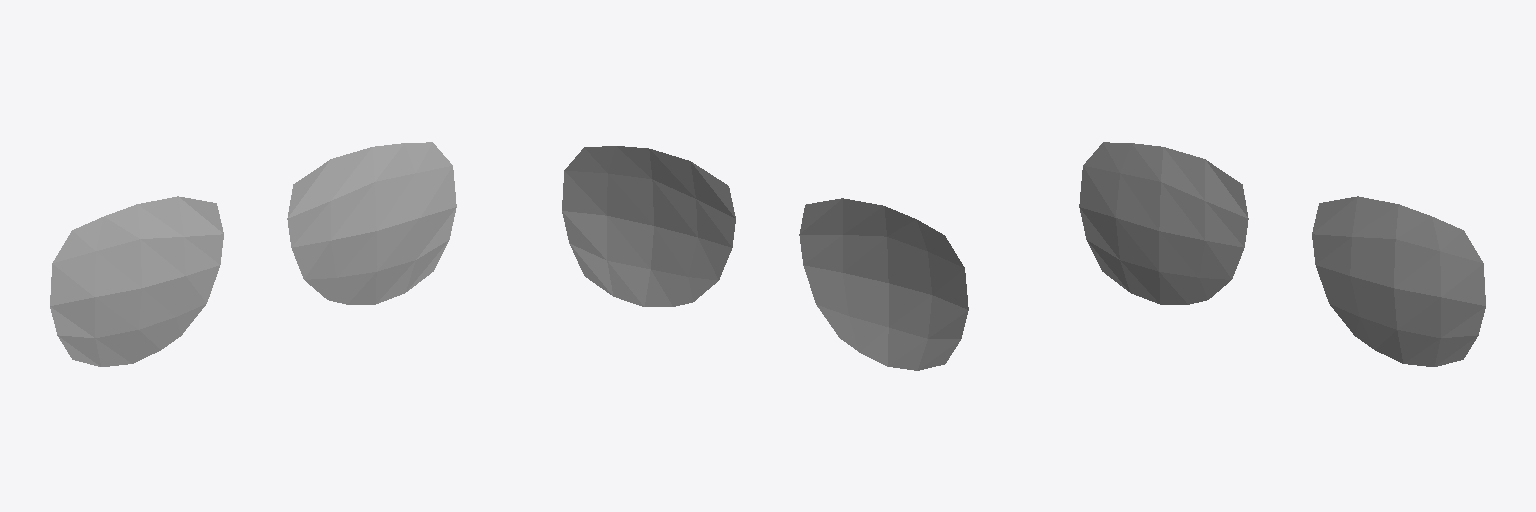
Rendered from glasses_4_lenses.obj.
3 renders of one model, left to right at view 1: azimuth 30°, elevation 25°; view 2: azimuth 150°, elevation 25°; view 3: azimuth 330°, elevation 25°, orthographic.
Visible parts, largest first — view 1: Plane; view 2: Plane; view 3: Plane.
Boxes of the visible parts, x1=… form: Plane: x1=50, y1=142, x2=456, y2=366; Plane: x1=562, y1=146, x2=968, y2=370; Plane: x1=1079, y1=142, x2=1485, y2=366.
Size of the model in its own units: 0.1345 by 0.0503 by 0.004.